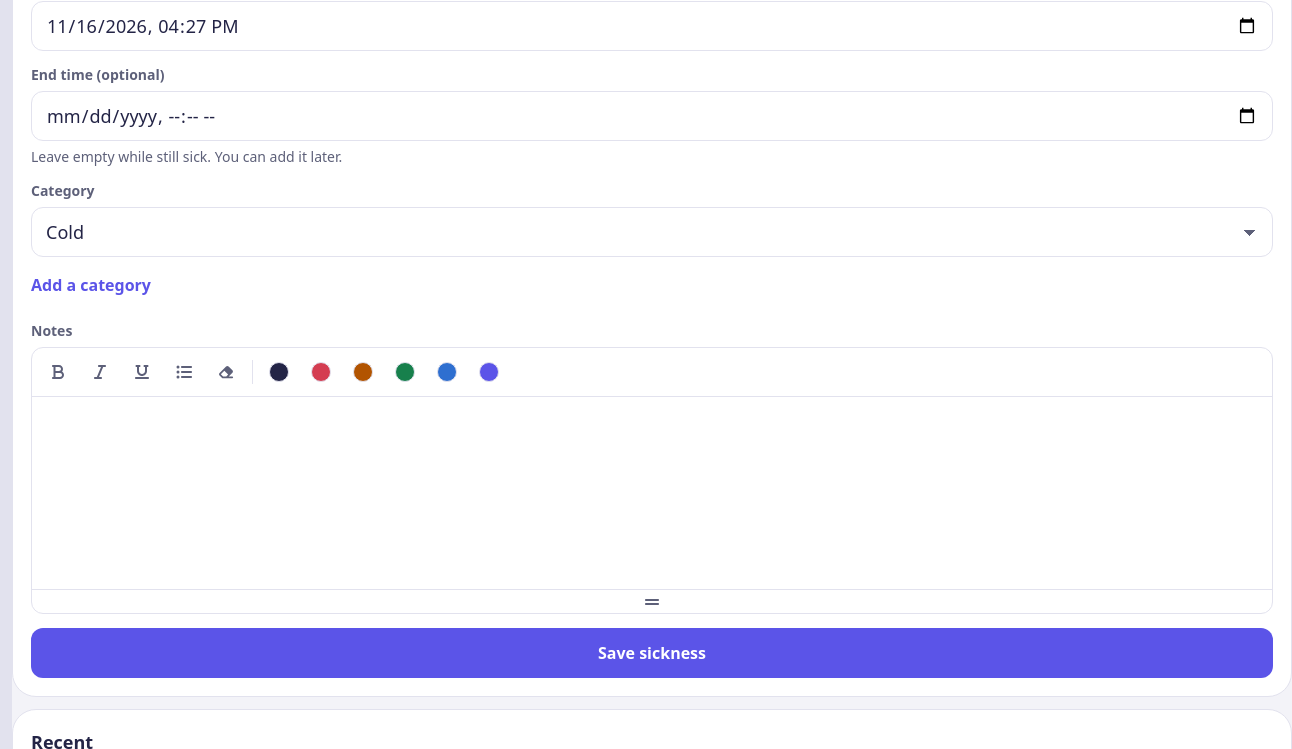
Scenario: SicknessLogPage › marks an ongoing sickness as recovered later
The image size is (1292, 749).
Click the button "Save sickness" at (652, 653), box [31,628,1273,678]
(page scrolled)
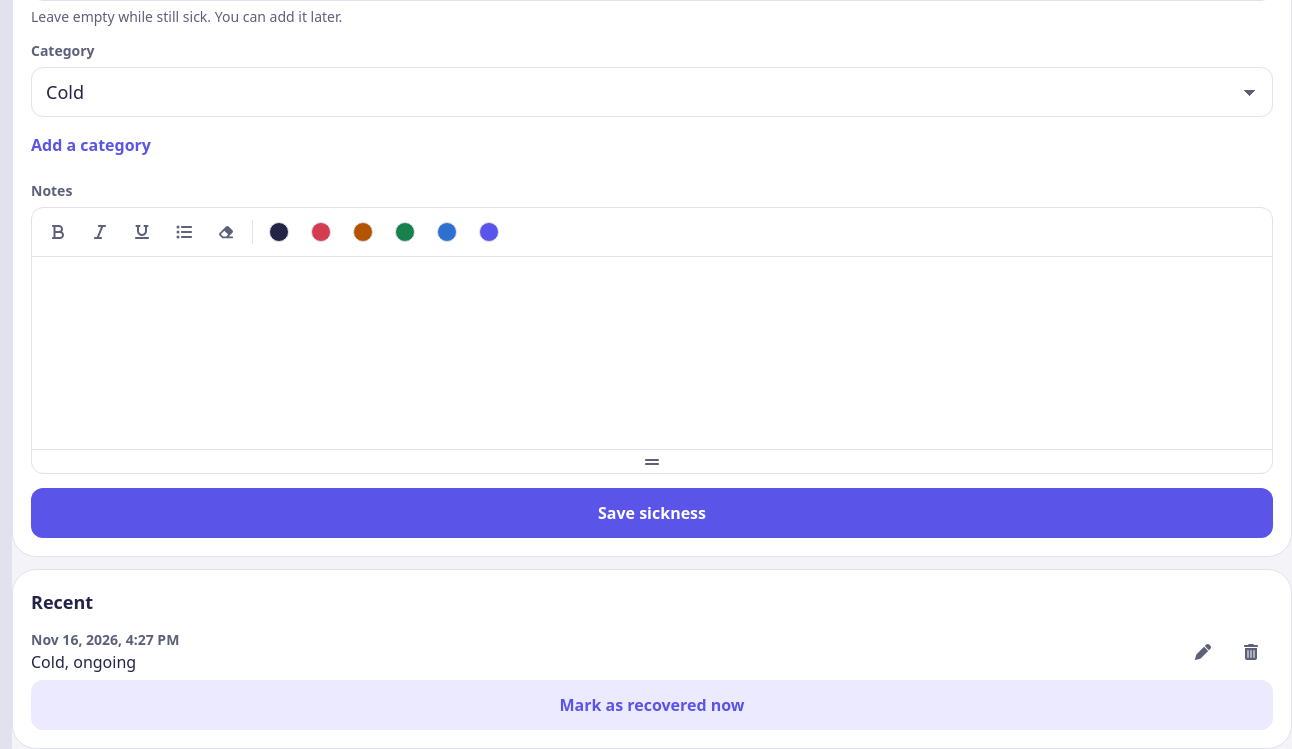
Click the button "Mark as recovered now" at (652, 705), box [31,680,1273,730]
(page scrolled)
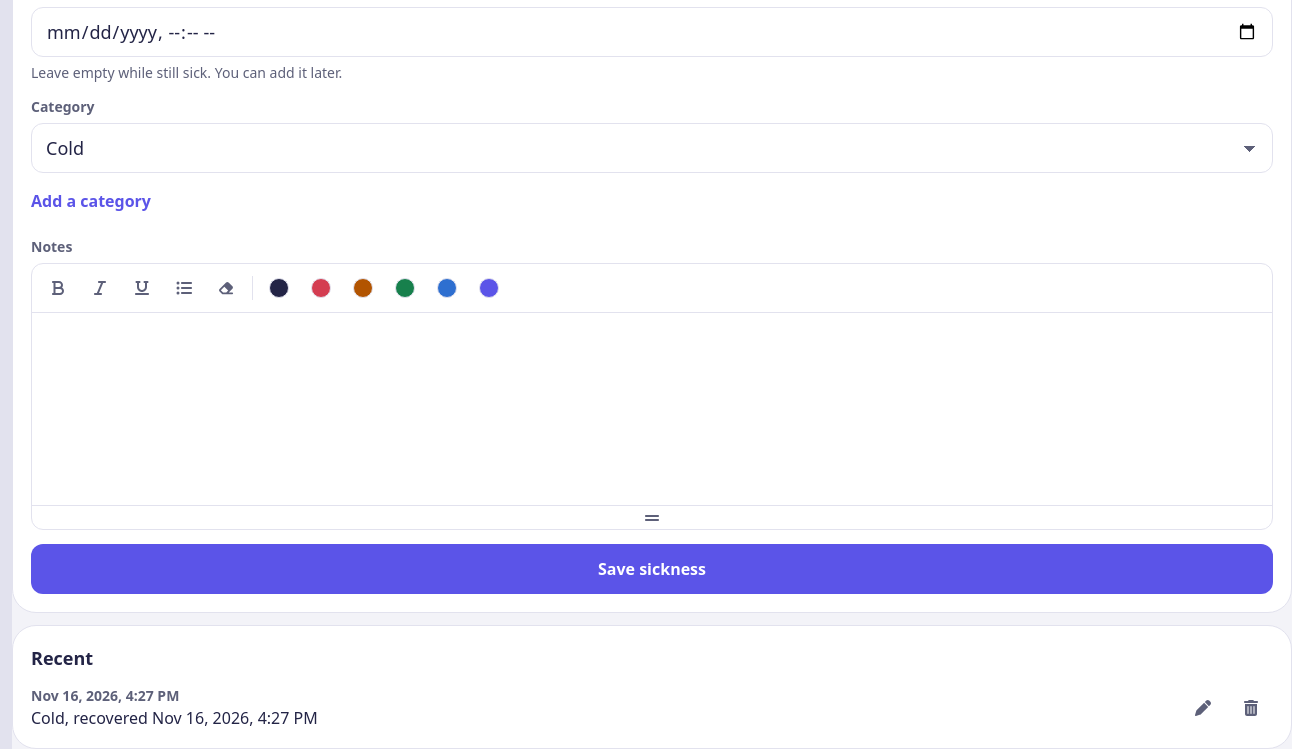
Expected: the text "Cold, recovered Nov 16, 2026, 4:27 PM" is shown, [31,707,318,729]
Expected: the button "Mark as recovered now" is gone
